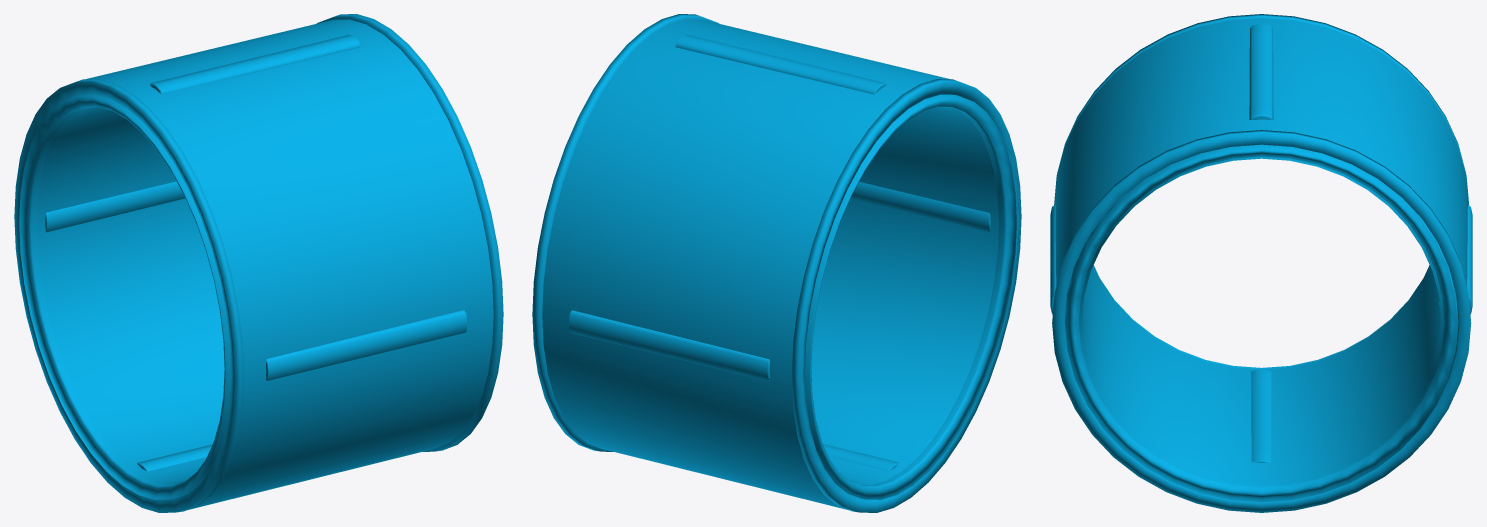
File: Washing_Machine_Basket_Lod1.fbx
3 renders of one model, left to right at view 1: azimuth 30°, elevation 25°; view 2: azimuth 150°, elevation 25°; view 3: azimuth 270°, elevation 25°, orthographic. The views are drawn at different scales.
Visible parts, largest first — view 1: Washing_Machine_Basket_Lod1; view 2: Washing_Machine_Basket_Lod1; view 3: Washing_Machine_Basket_Lod1.
Boxes of the visible parts, box(x1,y1,x2,y2) form: Washing_Machine_Basket_Lod1: box(14, 14, 503, 512); Washing_Machine_Basket_Lod1: box(532, 14, 1021, 512); Washing_Machine_Basket_Lod1: box(1050, 14, 1472, 512).
Size of the model in its own units: 24.53 by 35.2 by 35.2.
